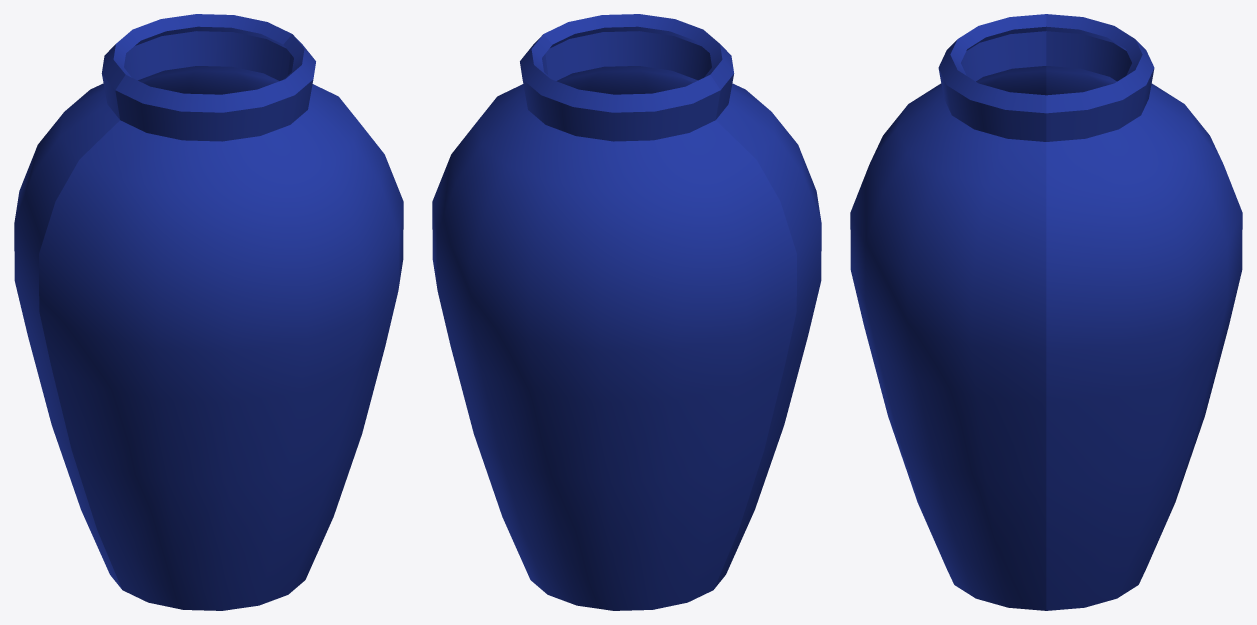
Rendered from Vase (1).fbx.
3 renders of one model, left to right at view 1: azimuth 30°, elevation 25°; view 2: azimuth 150°, elevation 25°; view 3: azimuth 270°, elevation 25°, orthographic.
Visible parts, largest first — view 1: VaseRight, VaseLeft; view 2: VaseLeft, VaseRight; view 3: VaseLeft, VaseRight.
Part boxes in pixels (bbox=[...]): VaseRight: bbox=[39, 34, 403, 610]; VaseLeft: bbox=[14, 14, 313, 588]; VaseLeft: bbox=[432, 34, 796, 610]; VaseRight: bbox=[522, 14, 821, 588]; VaseLeft: bbox=[1046, 14, 1242, 610]; VaseRight: bbox=[850, 14, 1046, 610].
Bounding box in the file's own units: 141 × 204 × 141.
